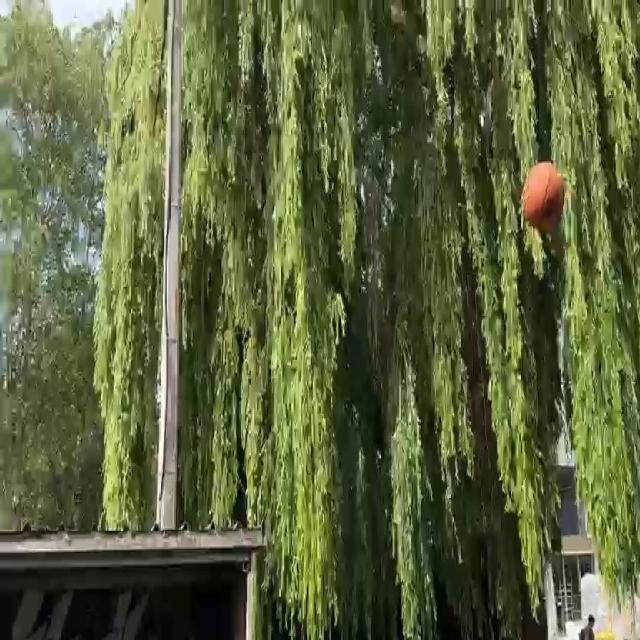Basketball: (522, 162, 565, 228)
